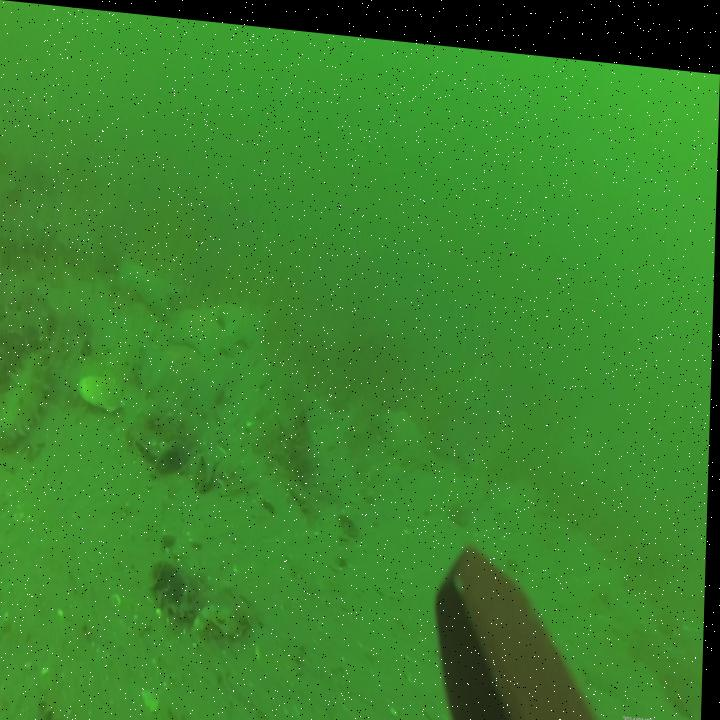holothurian: (2, 342, 49, 441)
scallop: (78, 374, 127, 417)
starfish: (105, 250, 176, 314)
